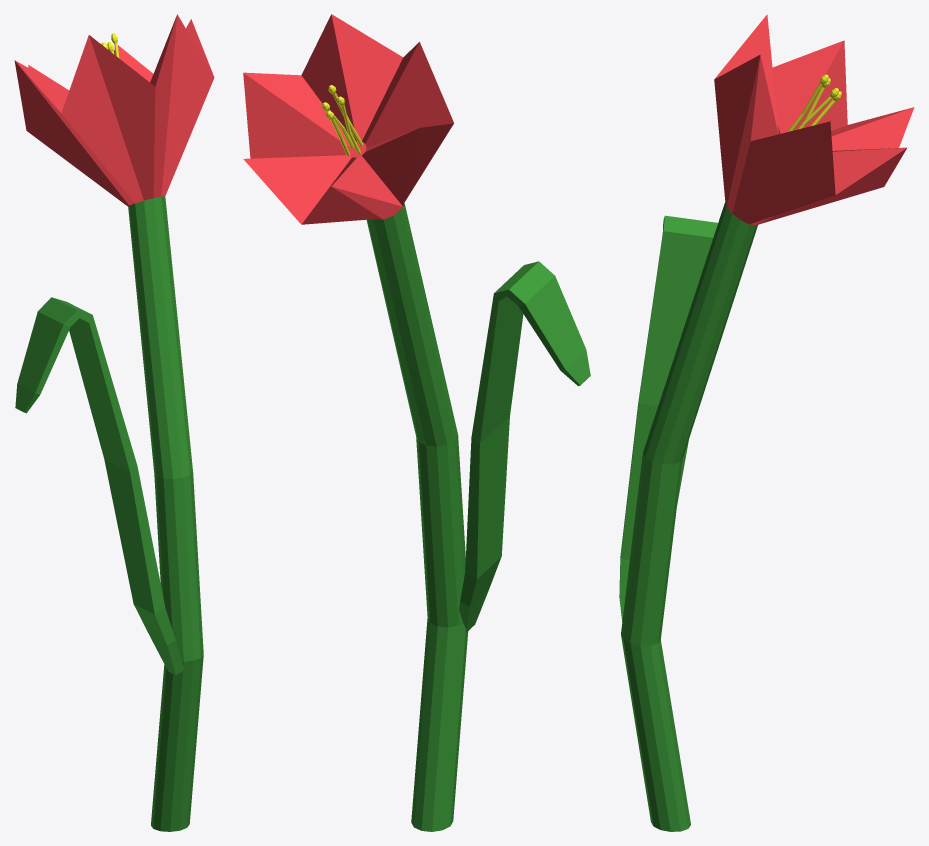
The model's file is Flower3.3.glb.
3 renders of one model, left to right at view 1: azimuth 30°, elevation 25°; view 2: azimuth 150°, elevation 25°; view 3: azimuth 270°, elevation 25°, orthographic. The views are drawn at different scales.
Visible parts, largest first — view 1: Flower3.3; view 2: Flower3.3; view 3: Flower3.3.
Boxes of the visible parts, x1,y1,x2,y2 form: Flower3.3: (14,14,214,831); Flower3.3: (243,14,590,831); Flower3.3: (619,14,914,831).
Bounding box in the file's own units: 0.0975 × 0.293 × 0.0985.
